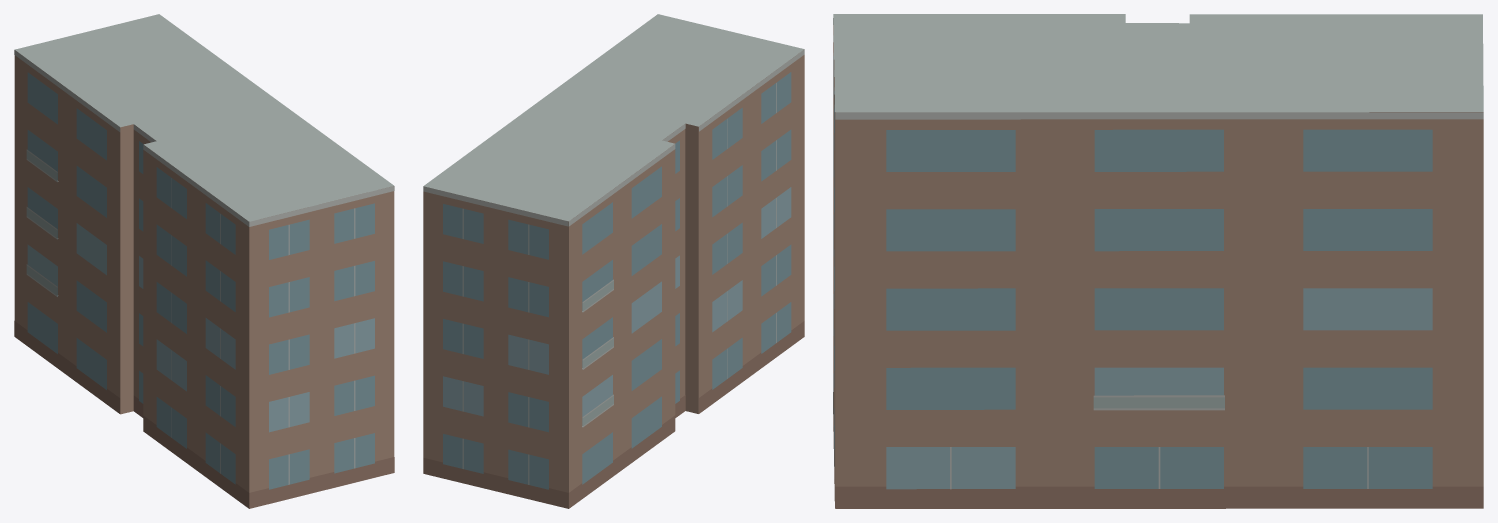
File: survey-upis-32626545.glb
3 views of the same model, side by side, from view 1: azimuth 30°, elevation 25°; view 2: azimuth 150°, elevation 25°; view 3: azimuth 270°, elevation 25° (orthographic). The views are drawn at different scales.
Parts seen in each view (by area): view 1: survey-upis-32626545.tmp; view 2: survey-upis-32626545.tmp; view 3: survey-upis-32626545.tmp.
Part boxes in pixels (x1=…): survey-upis-32626545.tmp: x1=14, y1=14, x2=394, y2=508; survey-upis-32626545.tmp: x1=423, y1=14, x2=804, y2=508; survey-upis-32626545.tmp: x1=833, y1=14, x2=1483, y2=508.
Bounding box in the file's own units: 7.18 × 13.4 × 19.93.
